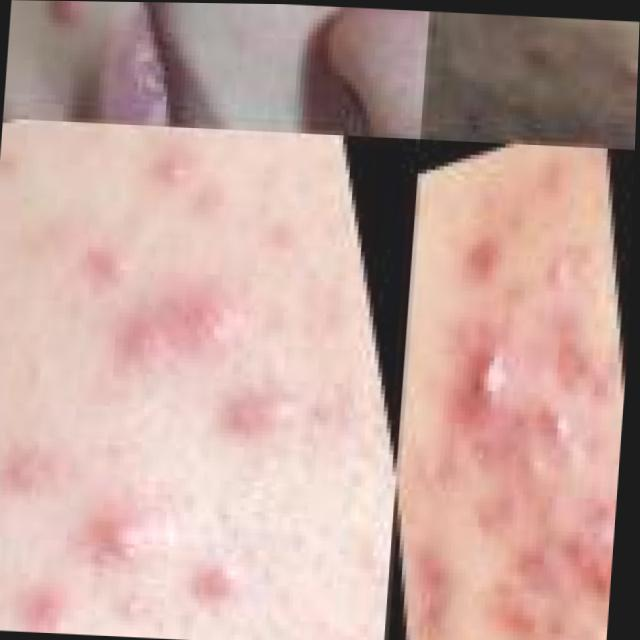cyst: (565, 500, 640, 611), (546, 257, 602, 399), (111, 311, 242, 368), (455, 346, 520, 432), (95, 506, 152, 566), (231, 401, 303, 443), (93, 228, 130, 299), (535, 396, 571, 466), (199, 554, 232, 599), (47, 0, 100, 24)
